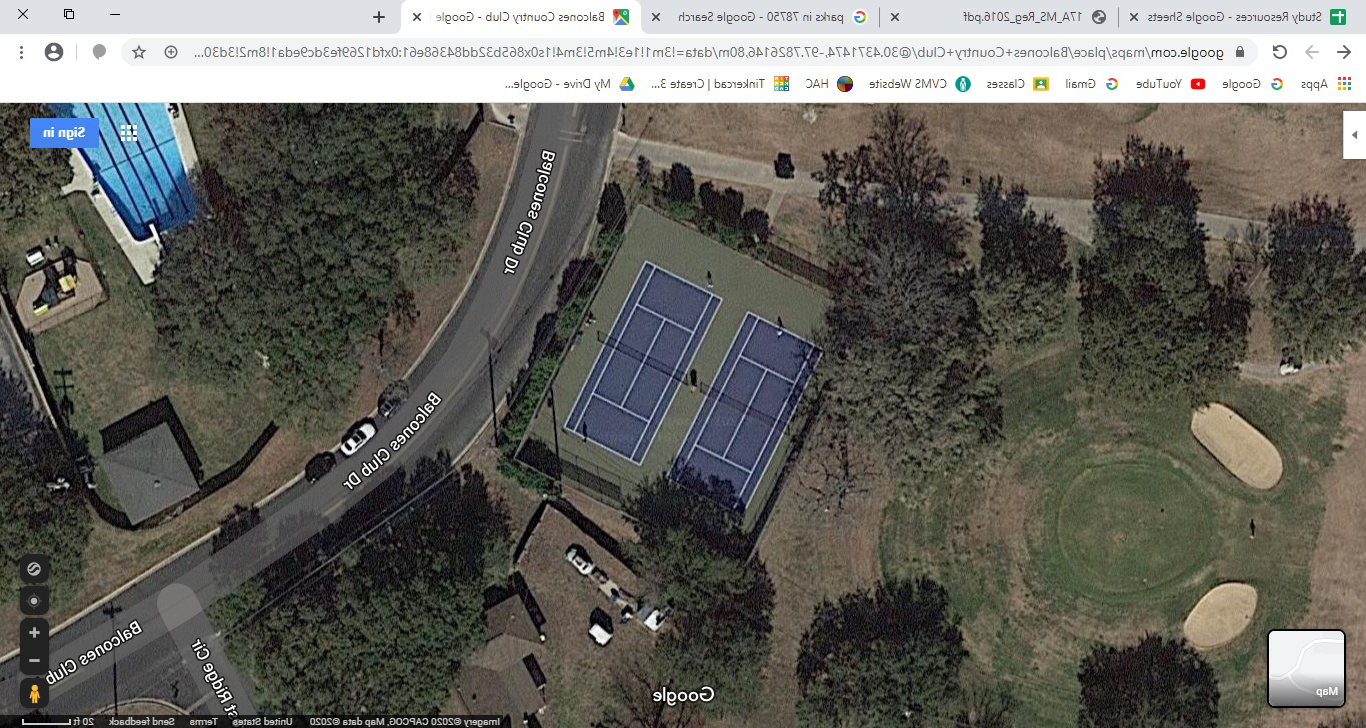tennis: (572, 252, 718, 430)
